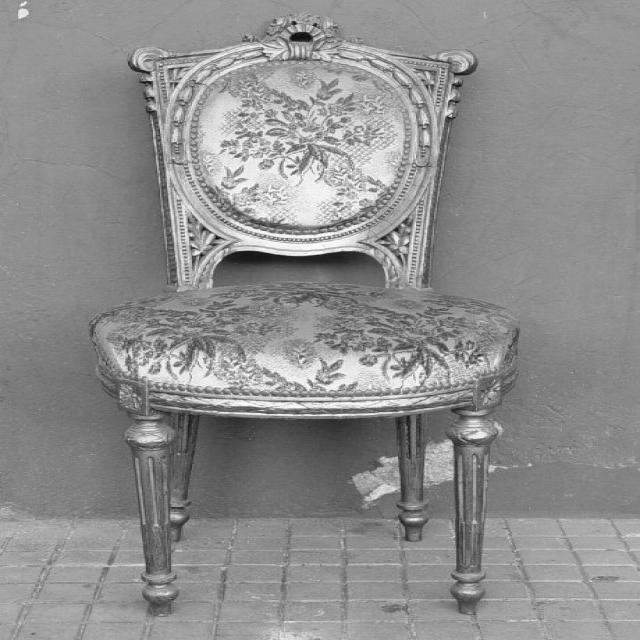chair: (90, 12, 520, 614)
